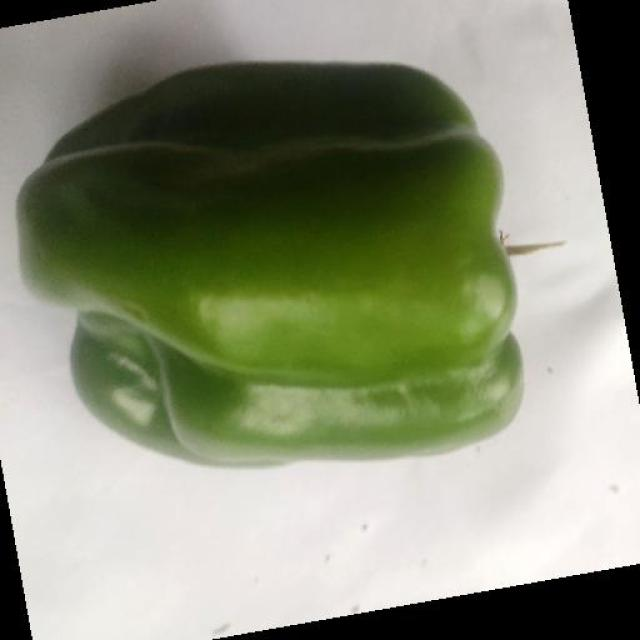Fresh_Capsicum: (30, 91, 543, 447)
